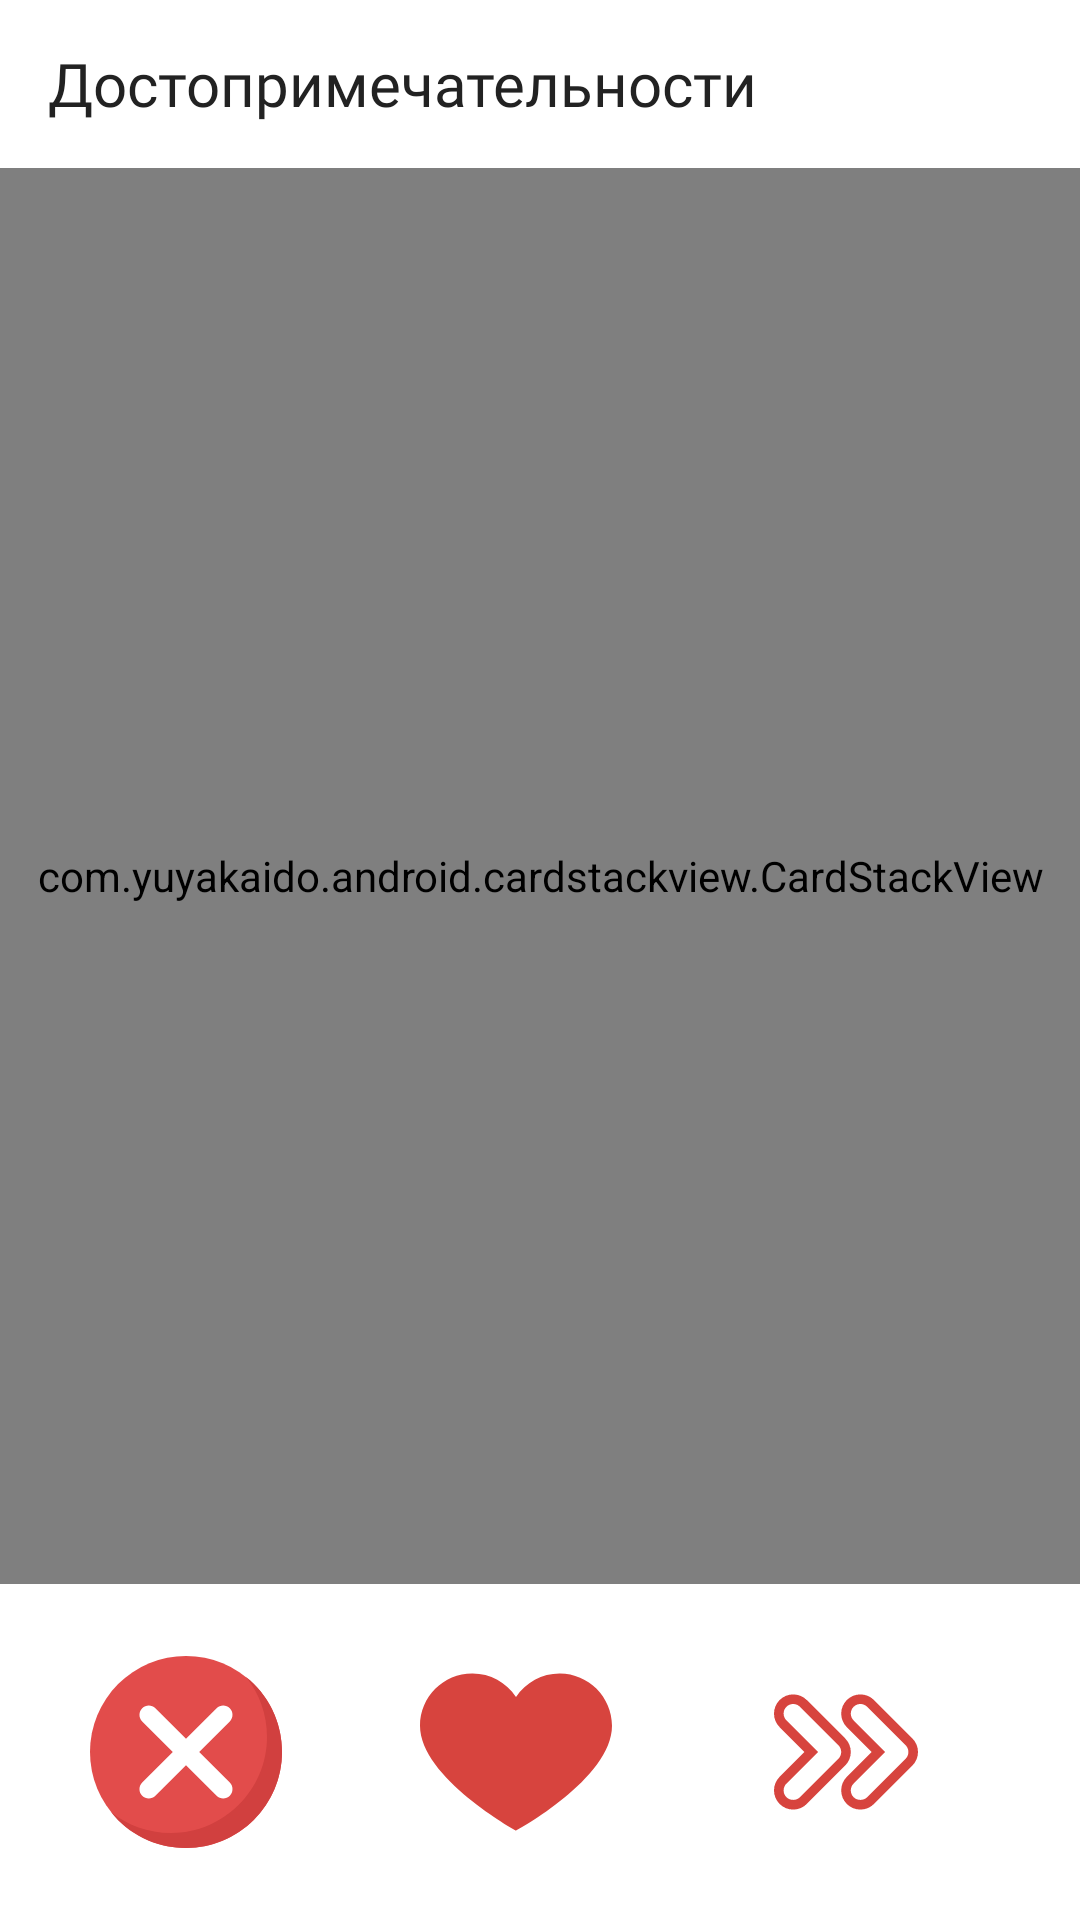

Screen size 1080w x 1920h. Icon name, then its center in pixels as (x=x, y=y):
cancel: (x=186, y=1752)
heart: (x=516, y=1752)
next: (x=846, y=1752)
